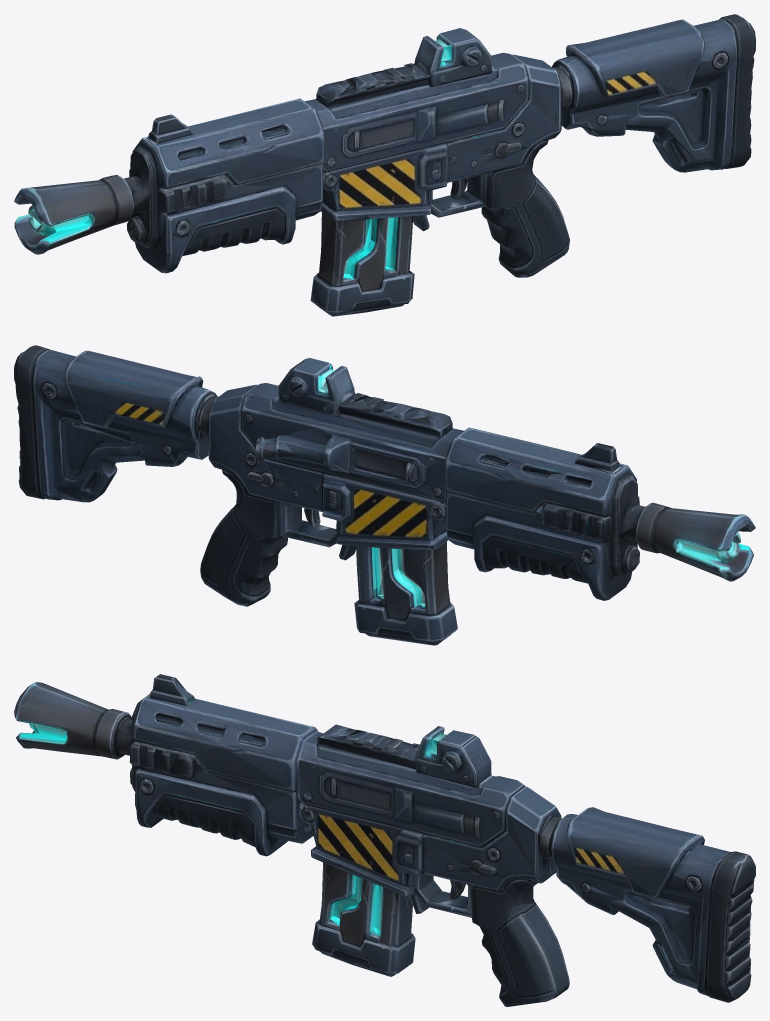
The model's file is gun_rifle_opt.glb.
3 views of the same model, one above another, from view 1: azimuth 30°, elevation 25°; view 2: azimuth 150°, elevation 25°; view 3: azimuth 330°, elevation 25° (orthographic).
Visible parts, largest first — view 1: mesh_node; view 2: mesh_node; view 3: mesh_node.
Part boxes in pixels (x1,y1,x2,y2): mesh_node: [14, 14, 755, 316]; mesh_node: [14, 345, 755, 645]; mesh_node: [14, 674, 755, 1006].
Bounding box in the file's own units: 1.9 × 0.6345 × 0.2254.
1 material, 1 textured.
